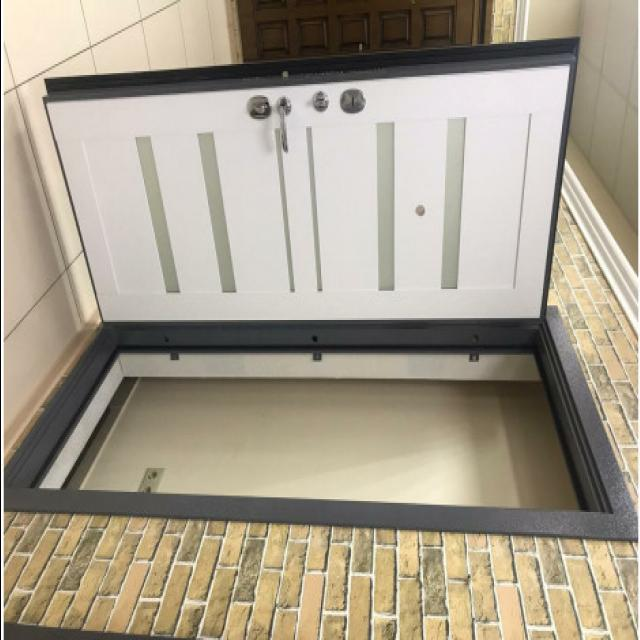open: (41, 73, 614, 530)
